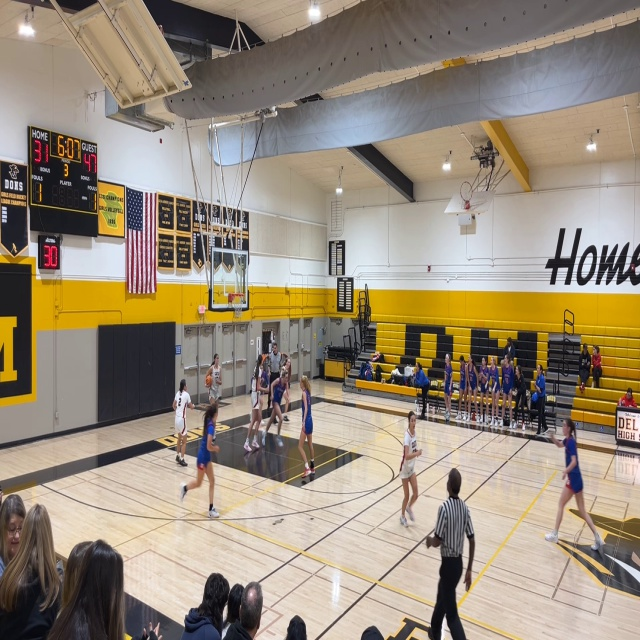Basketball: (205, 376, 212, 386)
